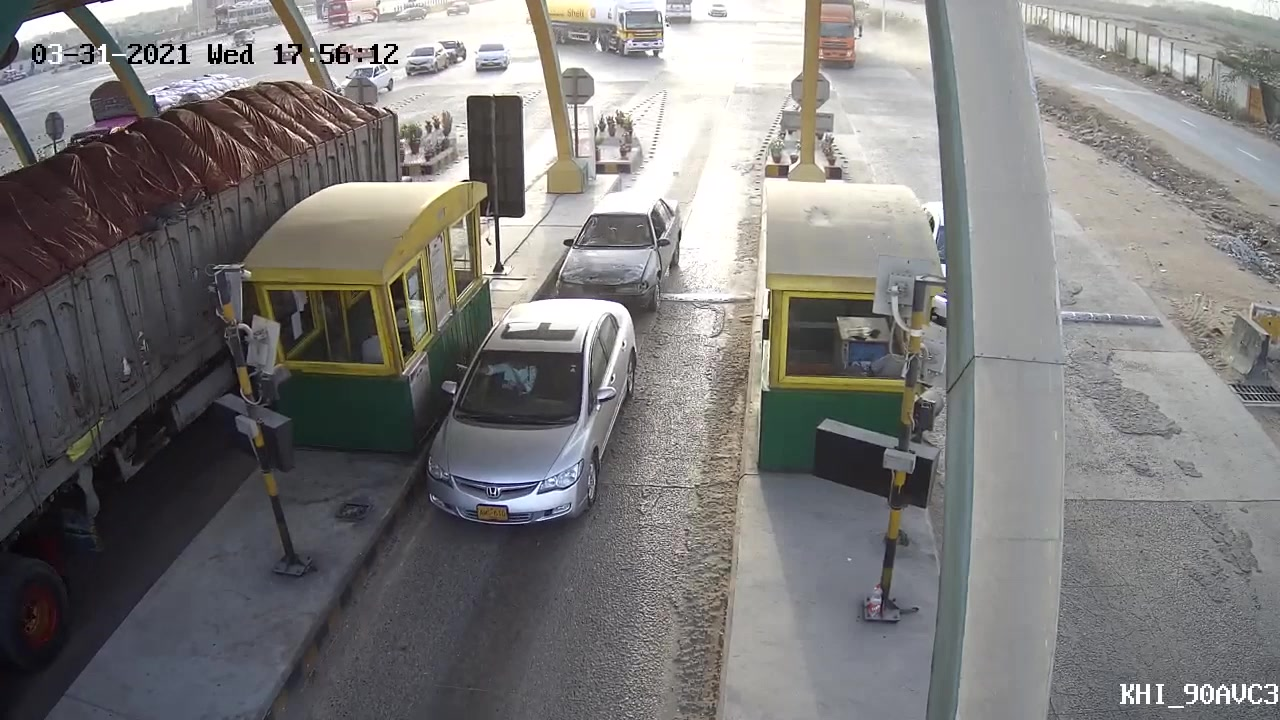F1: (418, 298, 642, 529)
